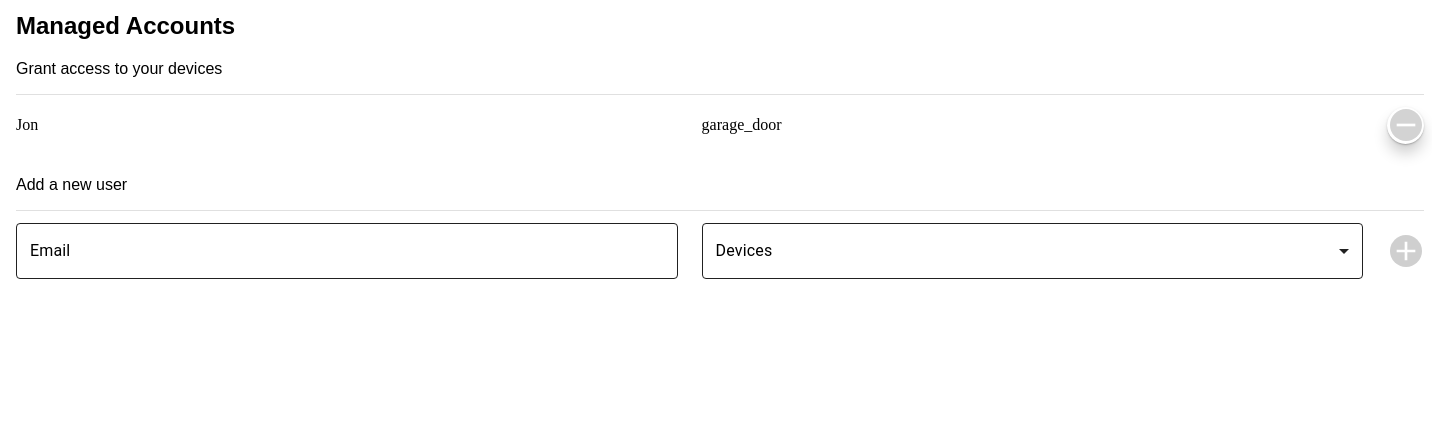
it: AccountChildUser › Input Validations › should enable the add button when email and device are populated
Expected: the button named "user-Jon" is shown, [1387,107,1424,144]
In the field labelled "Email": (347, 251) [16,223,678,279], type "test@test.com"
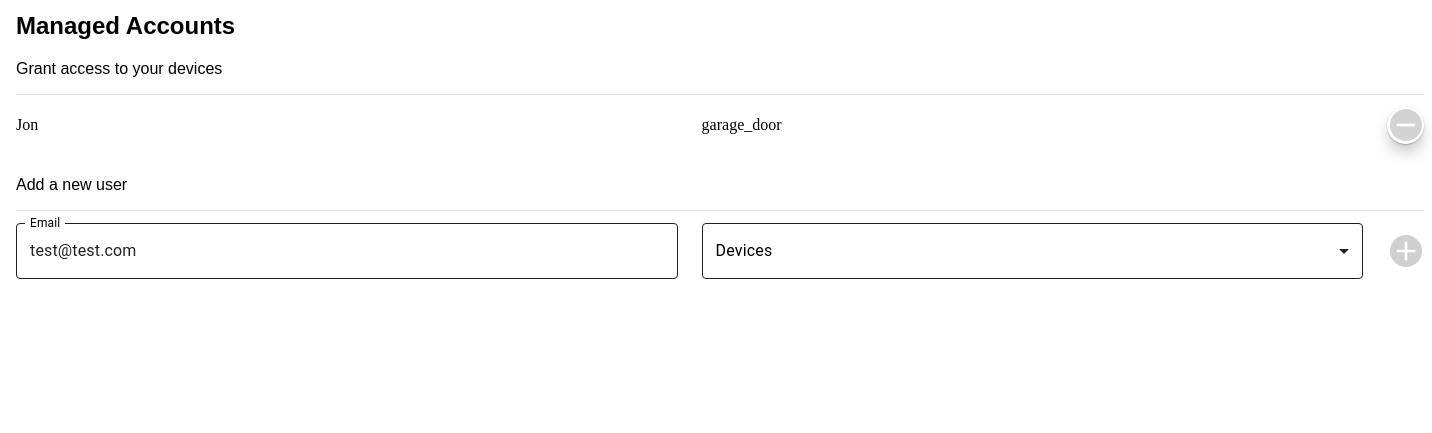
Press the mouse on the dropdown: (1032, 251) [702,223,1363,279]
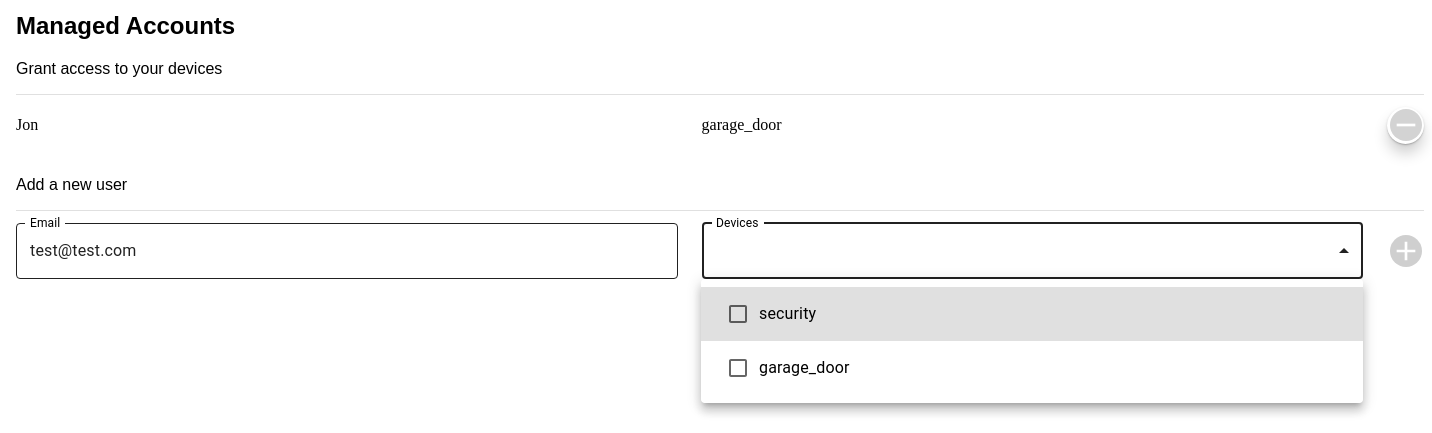
Click the option "garage_door": click(788, 368) [726,356,850,380]
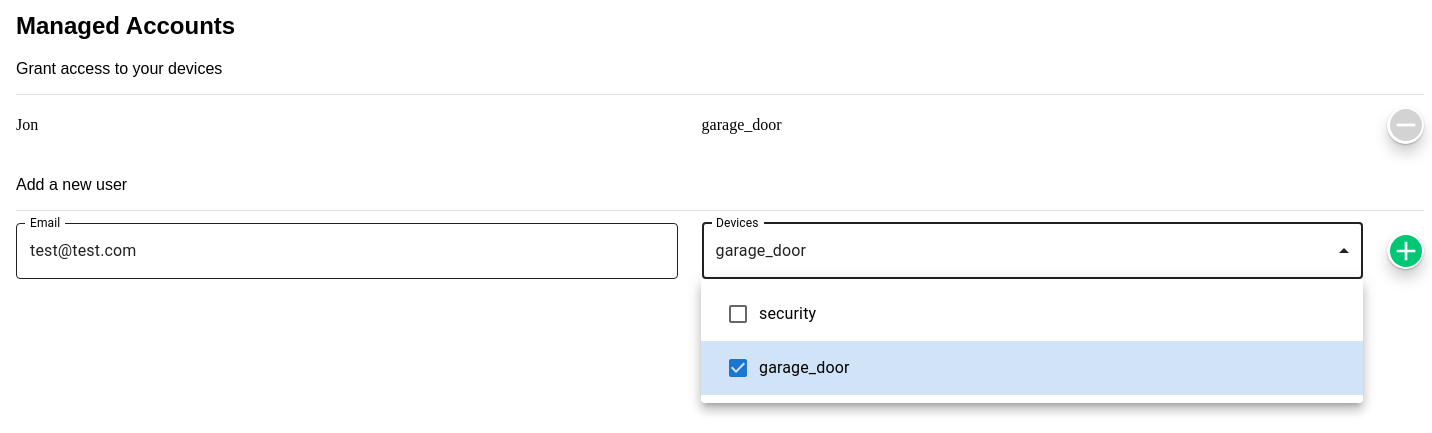
Expected: the button named "Add" is enabled, [1387,232,1424,269]
